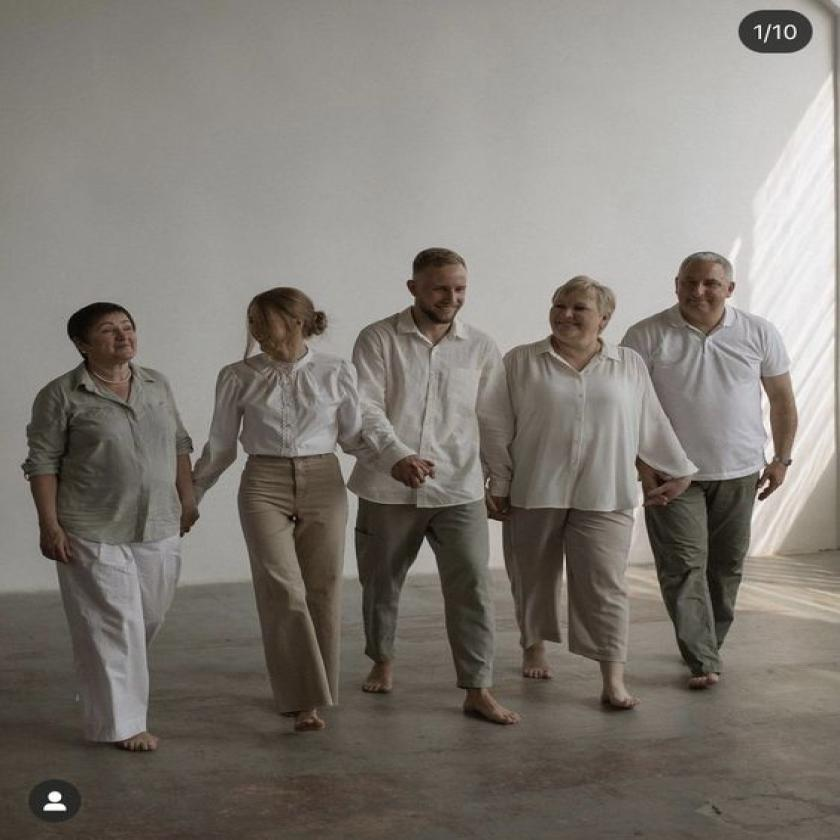Sin_casco: (244, 284, 326, 374), (539, 276, 623, 358), (668, 248, 744, 332), (404, 246, 476, 333), (67, 300, 146, 376)
